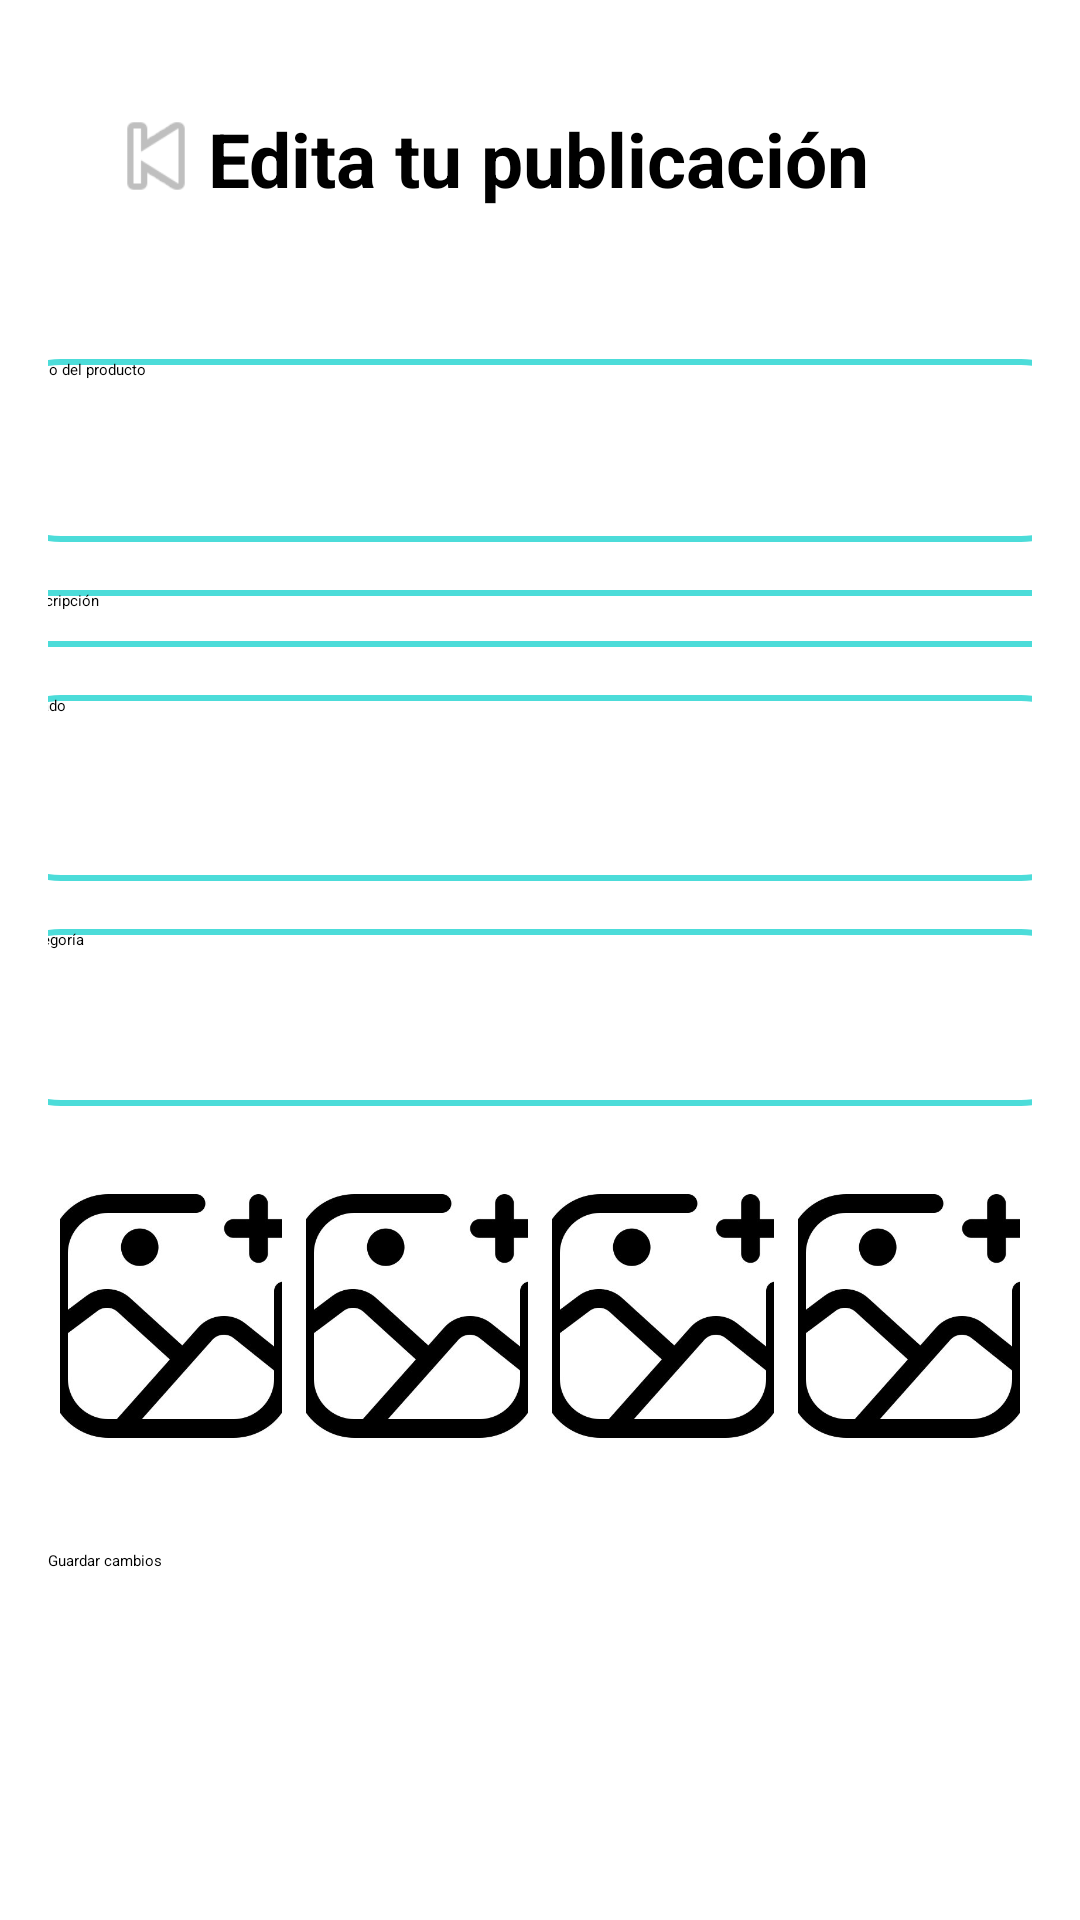

Screen size 1080×1920. Icon name, then its center in pixels as [x,y]:
foto: [171,1316], [417,1316], [663,1316], [909,1316]
previous: [156,156]
